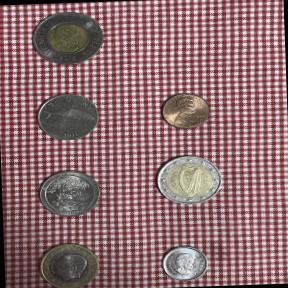1 Euro-B: (31, 236, 109, 288)
2 Euro-B: (148, 149, 228, 210)
Canada-10cent-B: (155, 242, 213, 286)
Canada-2Dollar-B: (23, 4, 114, 72)
Croatia-2Kune-B: (28, 82, 108, 146)
US-1cent-B: (158, 86, 218, 132)
US-25cent-B: (30, 162, 109, 223)
